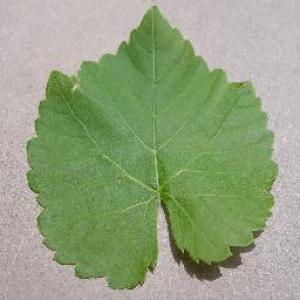Folha: (25, 3, 279, 290)
